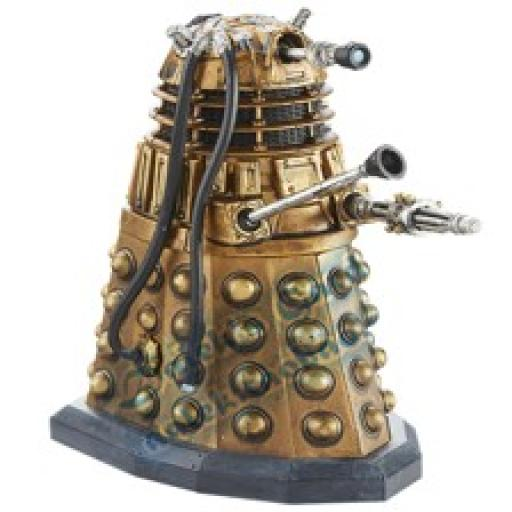dalek: (35, 5, 484, 497)
